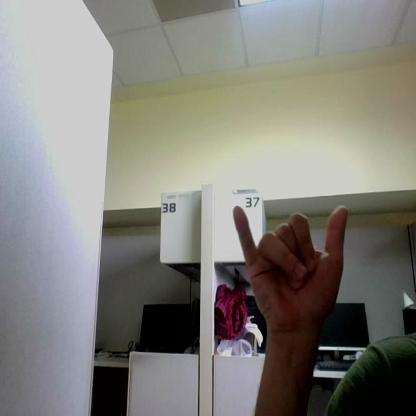Y: (233, 204, 347, 326)
